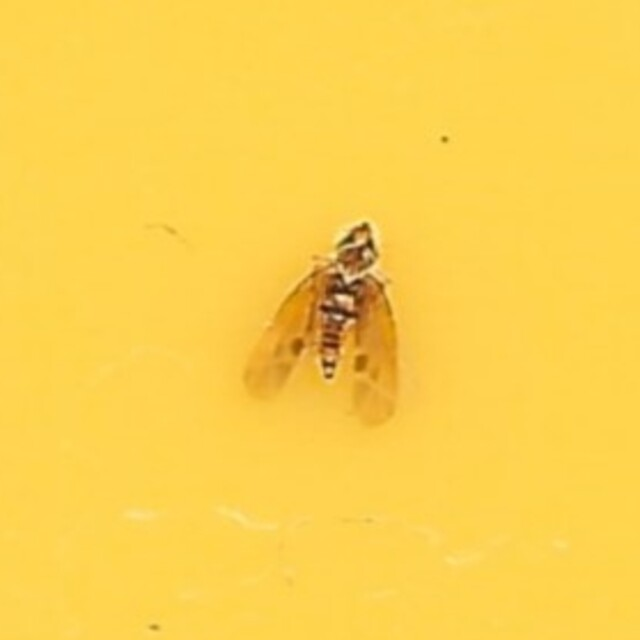Hemiptera: (229, 211, 411, 429)
